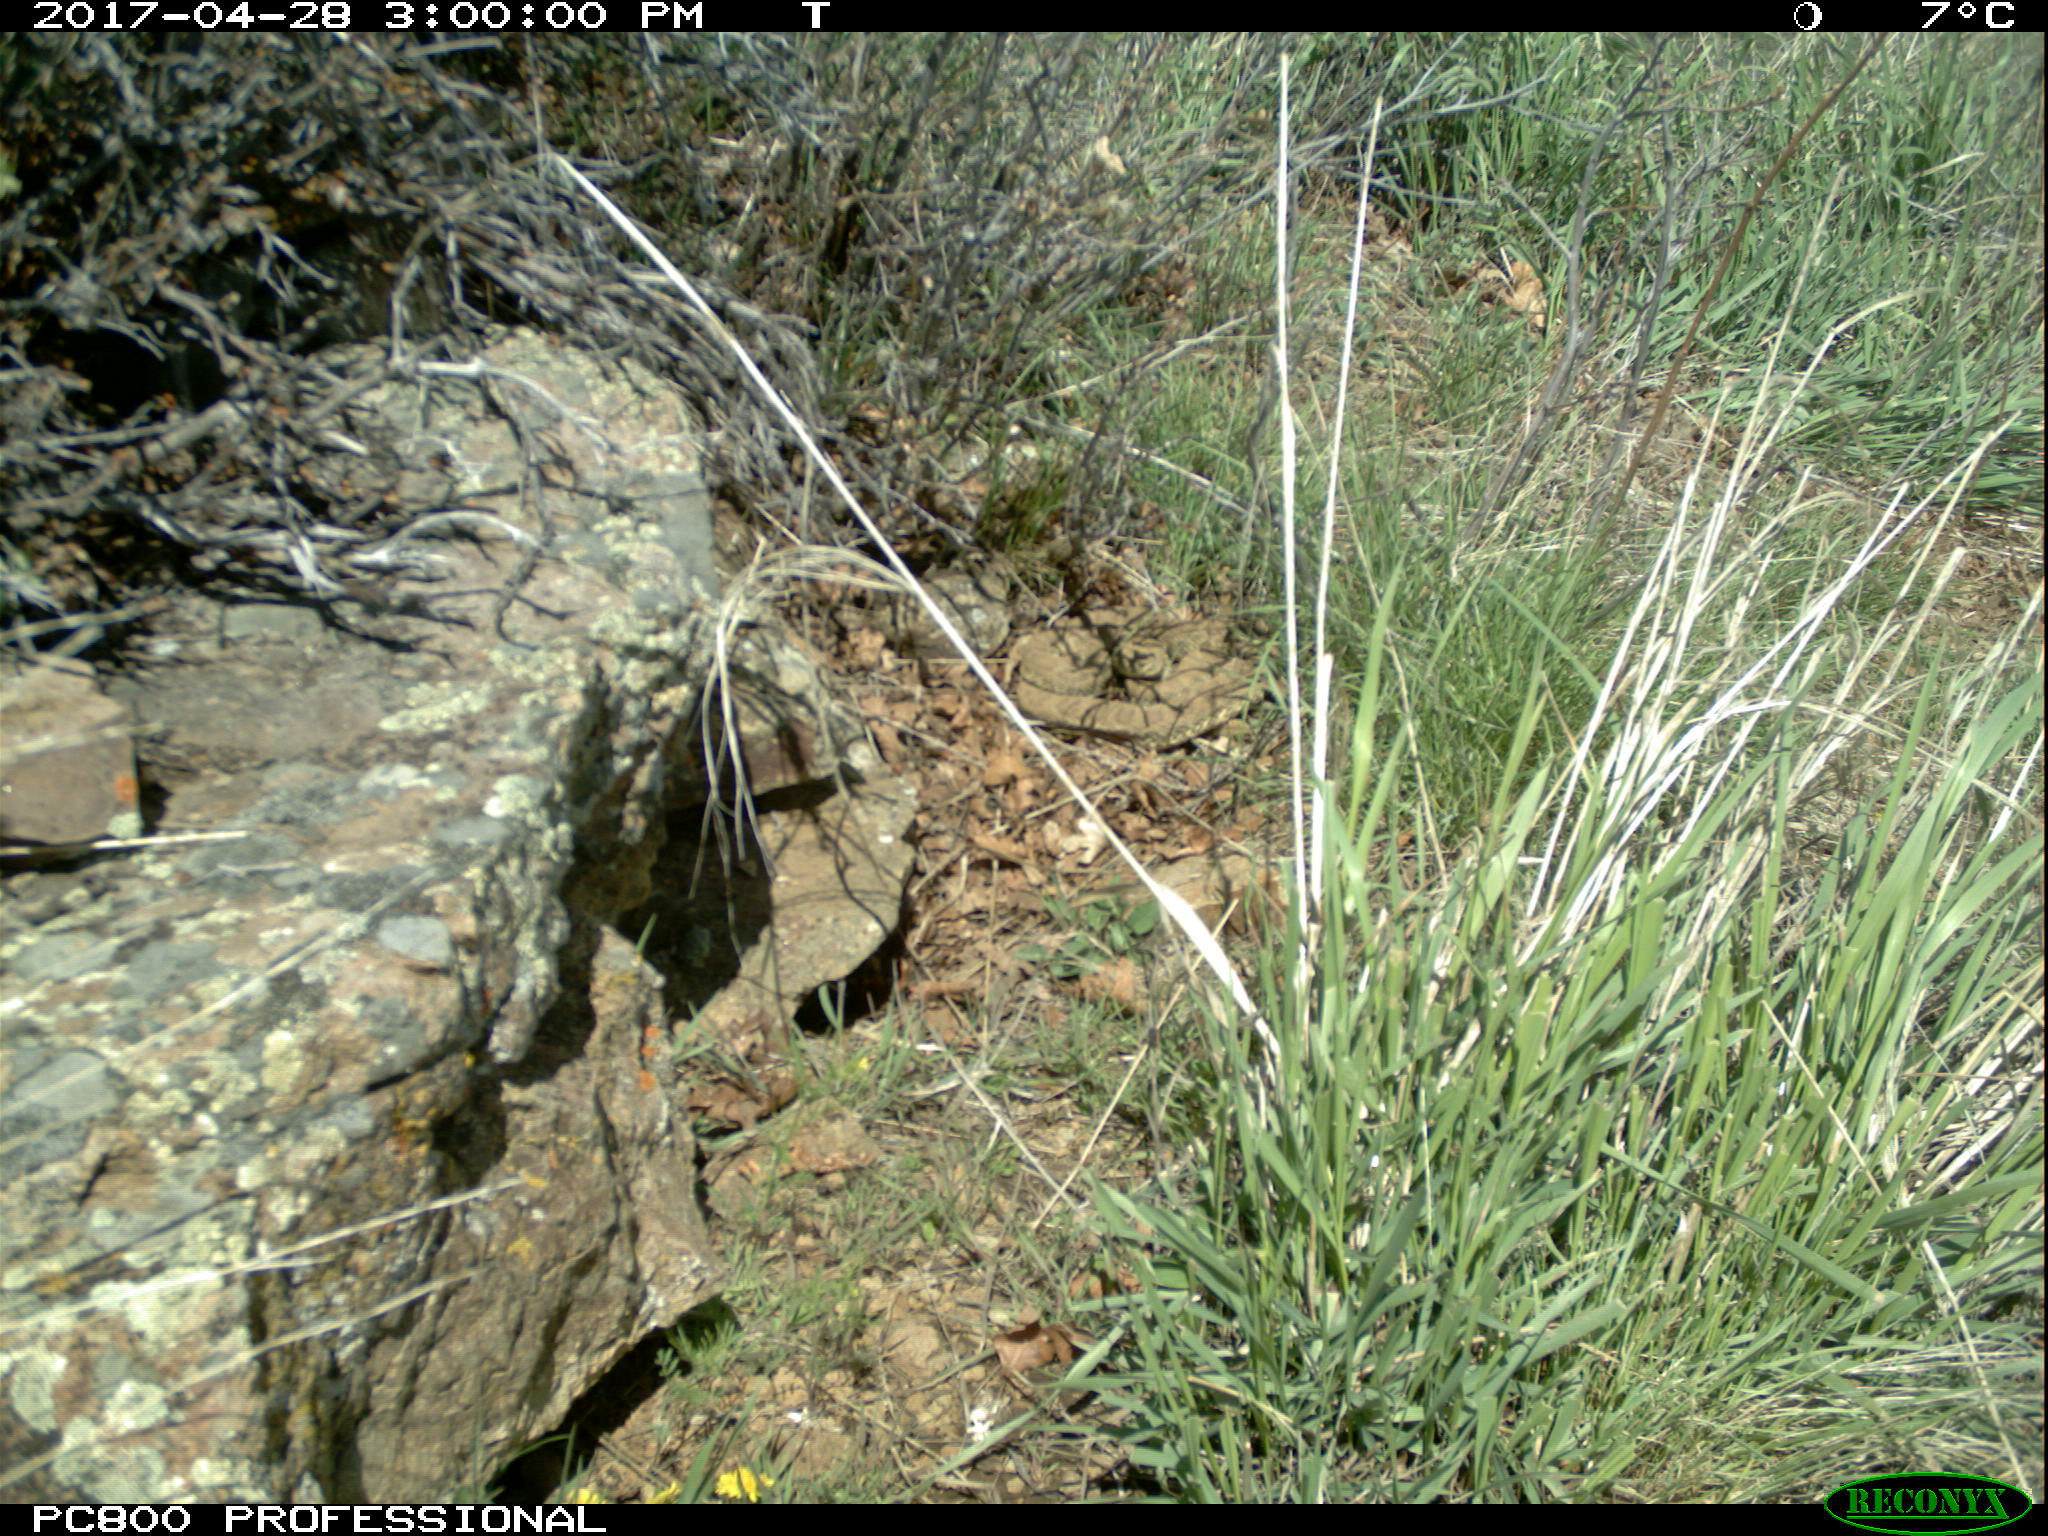snake: (1008, 611, 1259, 749)
